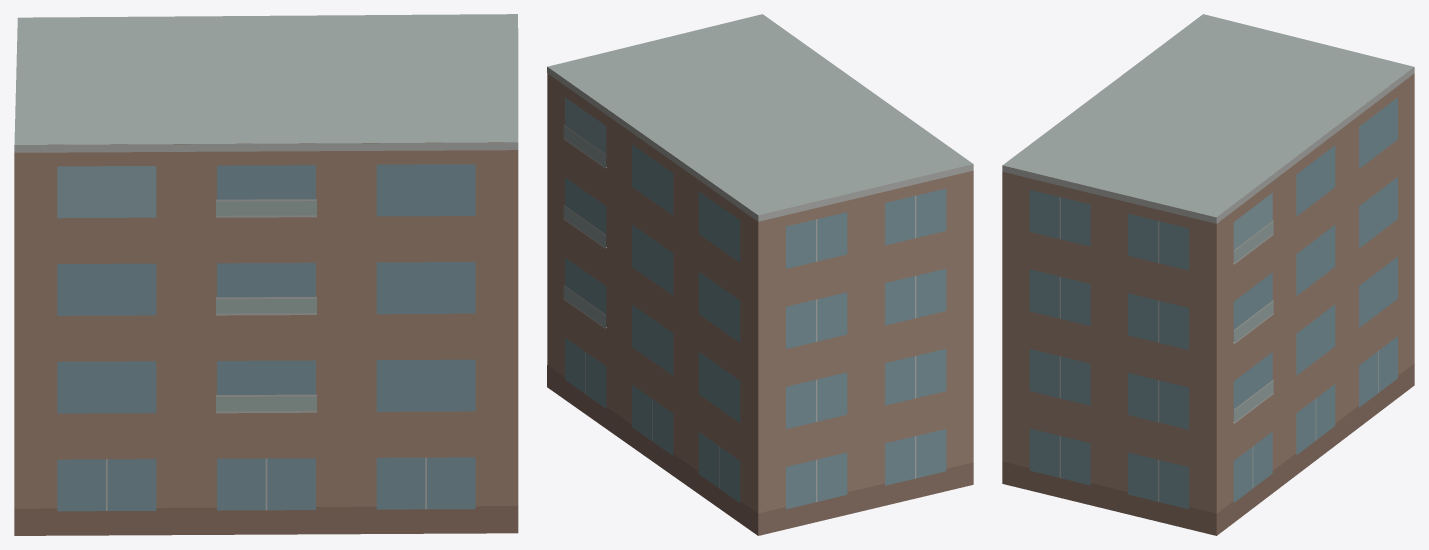
File: survey-upis-32960649.glb
The picture shows the model from 3 angles, left to right: view 1: azimuth 30°, elevation 25°; view 2: azimuth 150°, elevation 25°; view 3: azimuth 270°, elevation 25°; orthographic projection. The views are drawn at different scales.
Visible parts, largest first — view 1: survey-upis-32960649.tmp; view 2: survey-upis-32960649.tmp; view 3: survey-upis-32960649.tmp.
Part boxes in pixels (left/top/right/bottom): survey-upis-32960649.tmp: left=14, top=14, right=518, bottom=535; survey-upis-32960649.tmp: left=547, top=14, right=973, bottom=535; survey-upis-32960649.tmp: left=1002, top=14, right=1414, bottom=535.
Size of the model in its own units: 16.73 by 12.2 by 14.32.
